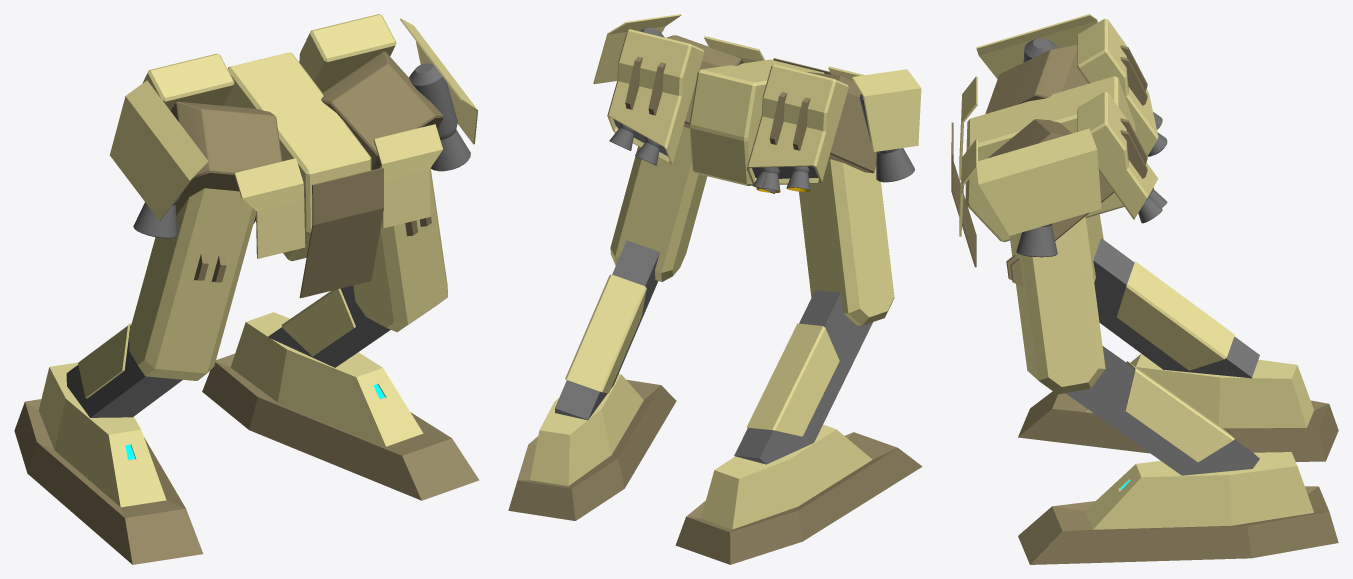
File: LegsForwards.fbx
The picture shows the model from 3 angles, left to right: view 1: azimuth 30°, elevation 25°; view 2: azimuth 150°, elevation 25°; view 3: azimuth 270°, elevation 25°; orthographic projection. The views are drawn at different scales.
Visible parts, largest first — view 1: pasted__pCube47, pasted__pCube48, pasted__pCube37, pasted__pasted__pCube32, pasted__pasted__pCube36, pasted__pPlane1, pasted__pCube31, pasted__pasted__pCube40, pasted__pasted__pCube39, pasted__pPlane4, pasted__pPlane3, pasted__pCube33 (×2) (+8 smaller); view 2: pasted__pCube48, pasted__pCube47, pasted__pCube37, pasted__pCube33 (×2), pasted__pasted__pCube32, pasted__pCube31, pasted__pCube43, pasted__pCube39, pasted__pCube38, pasted__pPlane1, pasted__pCube32, pasted__pasted__pCube40 (+6 smaller); view 3: pasted__pCube47, pasted__pCube48, pasted__pCube31, pasted__pCube33 (×2), pasted__pPlane2, pasted__pasted__pCube32, pasted__pCube32, pasted__pCube38, pasted__pCube43, pasted__pCube39, pasted__pasted__pCube40, pasted__pPlane1 (+9 smaller).
Part boxes in pixels (x1,y1,x2,y2): pasted__pCube47: (202,312,479,500); pasted__pCube48: (14,362,203,564); pasted__pCube37: (129,188,255,380); pasted__pasted__pCube32: (223,52,371,261); pasted__pasted__pCube36: (299,167,383,298); pasted__pPlane1: (110,80,208,220); pasted__pCube31: (353,166,447,332); pasted__pasted__pCube40: (170,101,282,223); pasted__pasted__pCube39: (321,51,443,170); pasted__pPlane4: (234,158,305,258); pasted__pPlane3: (373,124,442,228); pasted__pCube33 (×2): (78,288,355,398); pasted__pCube48: (675,424,922,564); pasted__pCube47: (508,374,676,520); pasted__pCube37: (799,159,894,325); pasted__pCube33 (×2): (565,274,839,436); pasted__pasted__pCube32: (689,59,824,185); pasted__pCube31: (610,126,707,281); pasted__pCube43: (607,29,704,164); pasted__pCube39: (746,64,848,184); pasted__pCube38: (734,290,872,464); pasted__pPlane1: (852,69,921,152); pasted__pCube32: (555,240,659,420); pasted__pasted__pCube40: (805,71,876,173); pasted__pCube47: (1018,452,1338,564); pasted__pCube48: (1018,354,1338,461); pasted__pCube31: (1009,216,1105,394); pasted__pCube33 (×2): (1117,261,1234,462); pasted__pPlane2: (976,128,1101,235); pasted__pasted__pCube32: (965,76,1135,241); pasted__pCube32: (1065,346,1259,475); pasted__pCube38: (1093,238,1259,378); pasted__pCube43: (1077,92,1158,219); pasted__pCube39: (1077,18,1158,155); pasted__pasted__pCube40: (985,45,1088,113); pasted__pPlane1: (976,14,1097,78).
Bounding box in the file's own units: 12.51 × 15.52 × 13.09.
